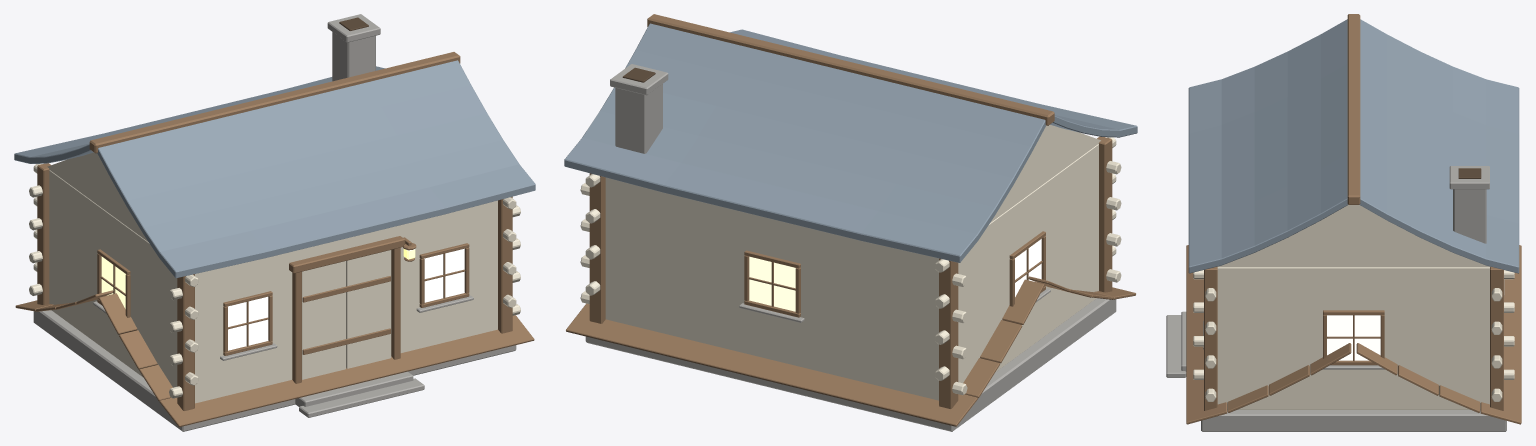
The model's file is house_l1.glb.
3 views of the same model, side by side, from view 1: azimuth 30°, elevation 25°; view 2: azimuth 150°, elevation 25°; view 3: azimuth 270°, elevation 25° (orthographic). The views are drawn at different scales.
Visible parts, largest first — view 1: Roof_All, Wall_All, Decor_All; view 2: Wall_All, Roof_All, Decor_All; view 3: Roof_All, Wall_All, Decor_All.
Part boxes in pixels (x1=…): Roof_All: x1=14, y1=52, x2=535, y2=427; Wall_All: x1=29, y1=152, x2=520, y2=431; Decor_All: x1=295, y1=14, x2=424, y2=417; Wall_All: x1=580, y1=125, x2=1121, y2=431; Roof_All: x1=564, y1=14, x2=1137, y2=426; Decor_All: x1=610, y1=64, x2=668, y2=153; Roof_All: x1=1186, y1=14, x2=1521, y2=424; Wall_All: x1=1193, y1=205, x2=1514, y2=431; Decor_All: x1=1166, y1=166, x2=1489, y2=377.
Bounding box in the file's own units: 8.75 × 5.47 × 7.2.
